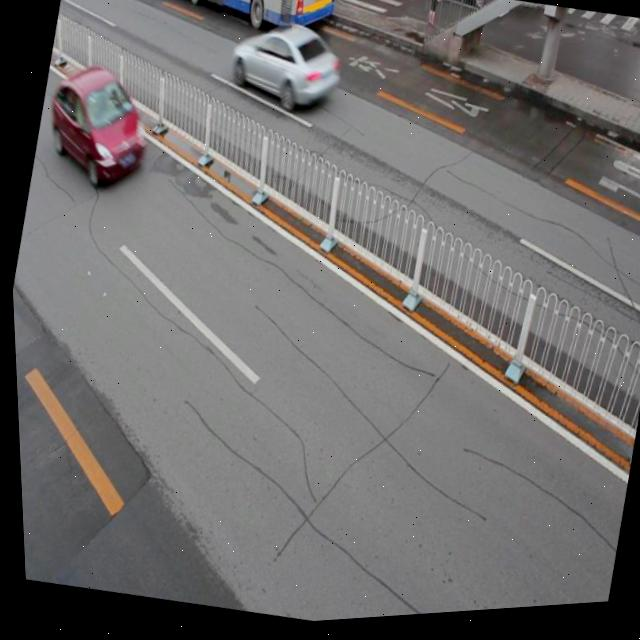car: (37, 56, 158, 196), (221, 14, 349, 124)
van: (123, 0, 340, 59)
